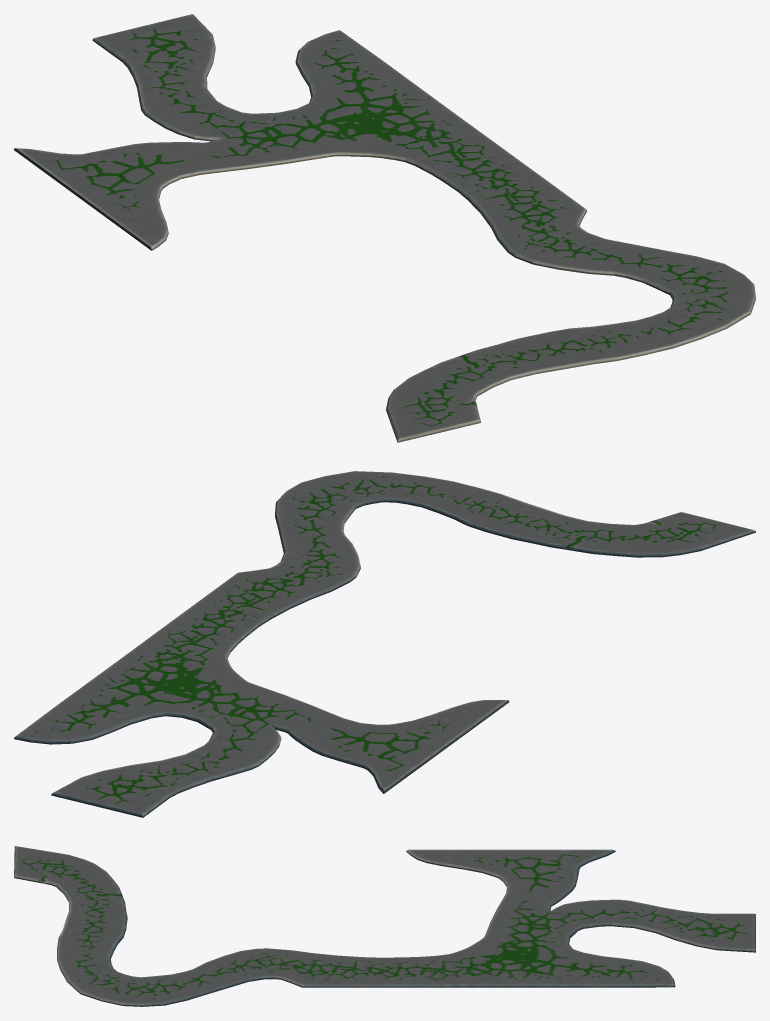
Rendered from PathTexture Test_texturedfbx.fbx.
3 views of the same model, one above another, from view 1: azimuth 30°, elevation 25°; view 2: azimuth 150°, elevation 25°; view 3: azimuth 270°, elevation 25° (orthographic). The views are drawn at different scales.
Parts seen in each view (by area): view 1: Path_LOW; view 2: Path_LOW; view 3: Path_LOW.
Boxes of the visible parts, bbox=[...] form: Path_LOW: bbox=[14, 14, 755, 442]; Path_LOW: bbox=[14, 471, 755, 817]; Path_LOW: bbox=[14, 846, 755, 1006].
Bounding box in the file's own units: 1933 × 12.81 × 3800.
Materials: 1 (1 with a texture image).
